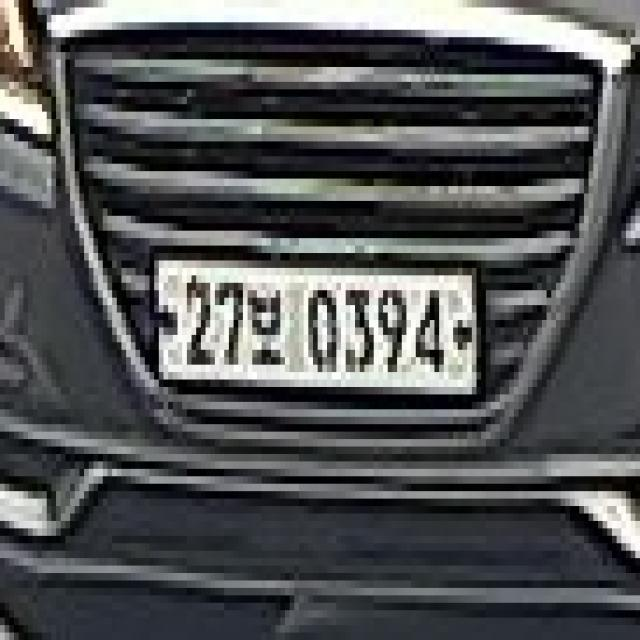plat: (152, 254, 482, 394)
